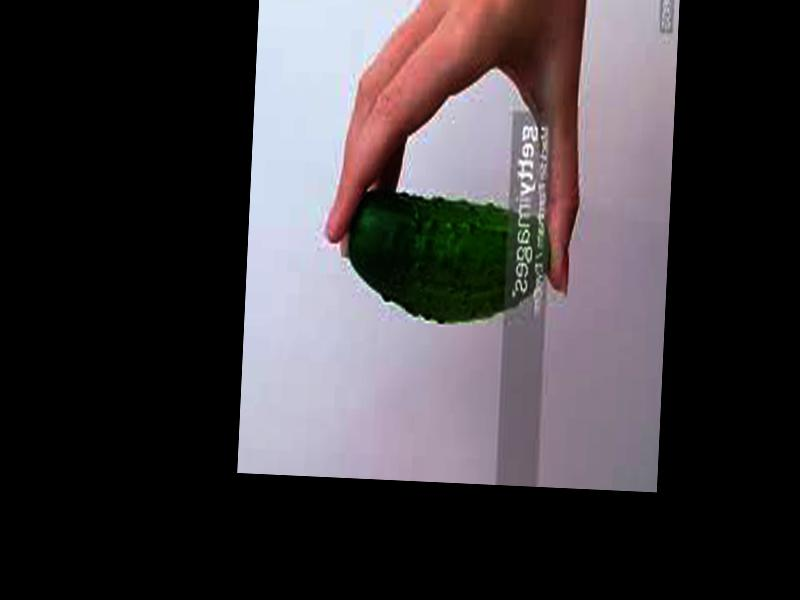Cucumber: (345, 191, 553, 328)
